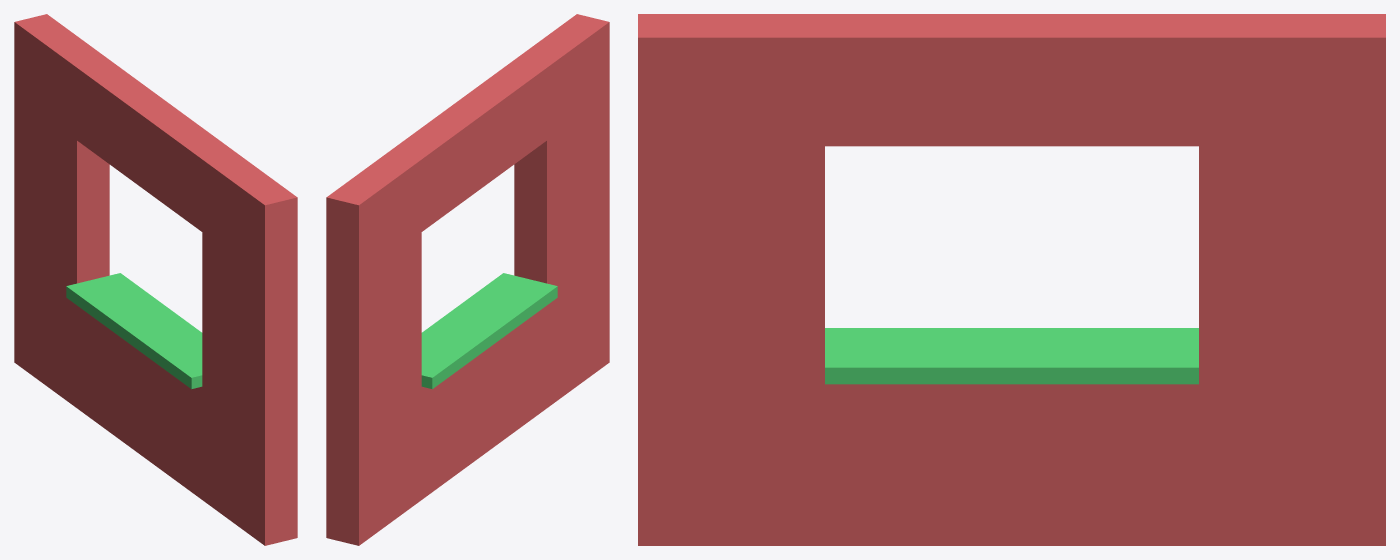
Rendered from rightCounterWall_geo.fbx.
The picture shows the model from 3 angles, left to right: view 1: azimuth 30°, elevation 25°; view 2: azimuth 150°, elevation 25°; view 3: azimuth 270°, elevation 25°; orthographic projection. The views are drawn at different scales.
Parts seen in each view (by area): view 1: rightCounterWall_geo.01; view 2: rightCounterWall_geo.01; view 3: rightCounterWall_geo.01.
Part boxes in pixels (box(x1,y1,x2,y2)): rightCounterWall_geo.01: box(14, 14, 297, 545); rightCounterWall_geo.01: box(326, 14, 609, 545); rightCounterWall_geo.01: box(638, 14, 1385, 545).
Bounding box in the file's own units: 50 × 300 × 400.
